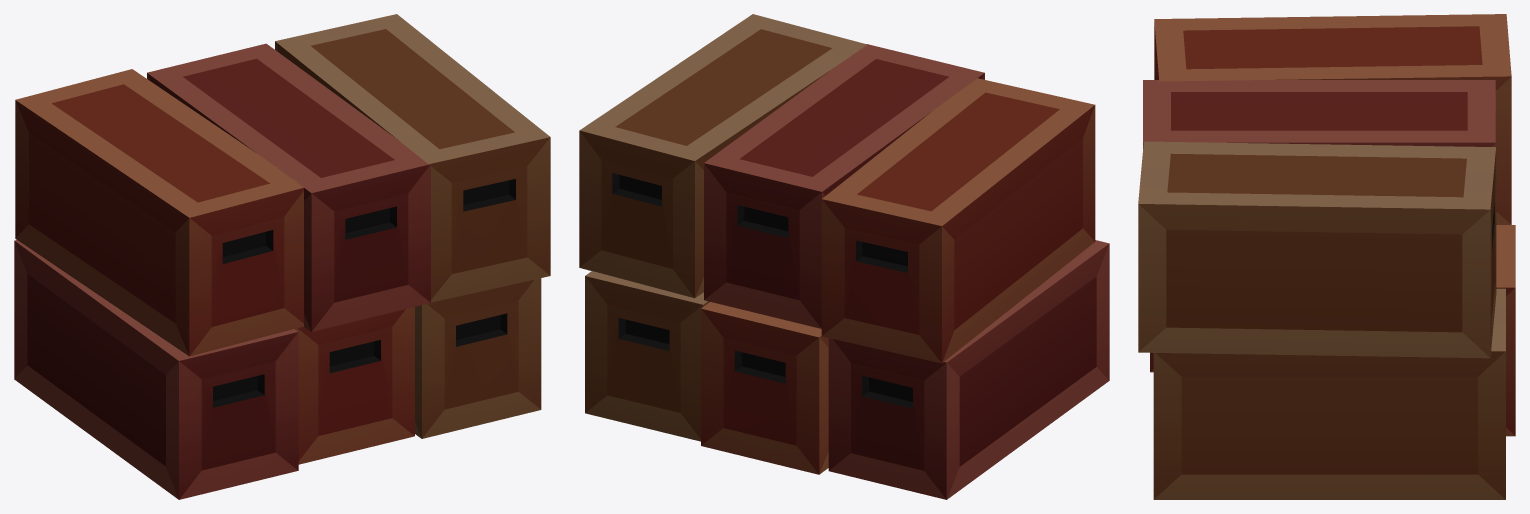
Rendered from SM_MarketBoxes_02.fbx.
3 views of the same model, side by side, from view 1: azimuth 30°, elevation 25°; view 2: azimuth 150°, elevation 25°; view 3: azimuth 270°, elevation 25° (orthographic). The views are drawn at different scales.
Parts seen in each view (by area): view 1: SM_MarketBoxes_02; view 2: SM_MarketBoxes_02; view 3: SM_MarketBoxes_02.
Part boxes in pixels (x1,y1,x2,y2): SM_MarketBoxes_02: (14,14,550,499); SM_MarketBoxes_02: (579,14,1109,499); SM_MarketBoxes_02: (1138,14,1515,499).
Bounding box in the file's own units: 1.04 × 0.7289 × 0.8393.
